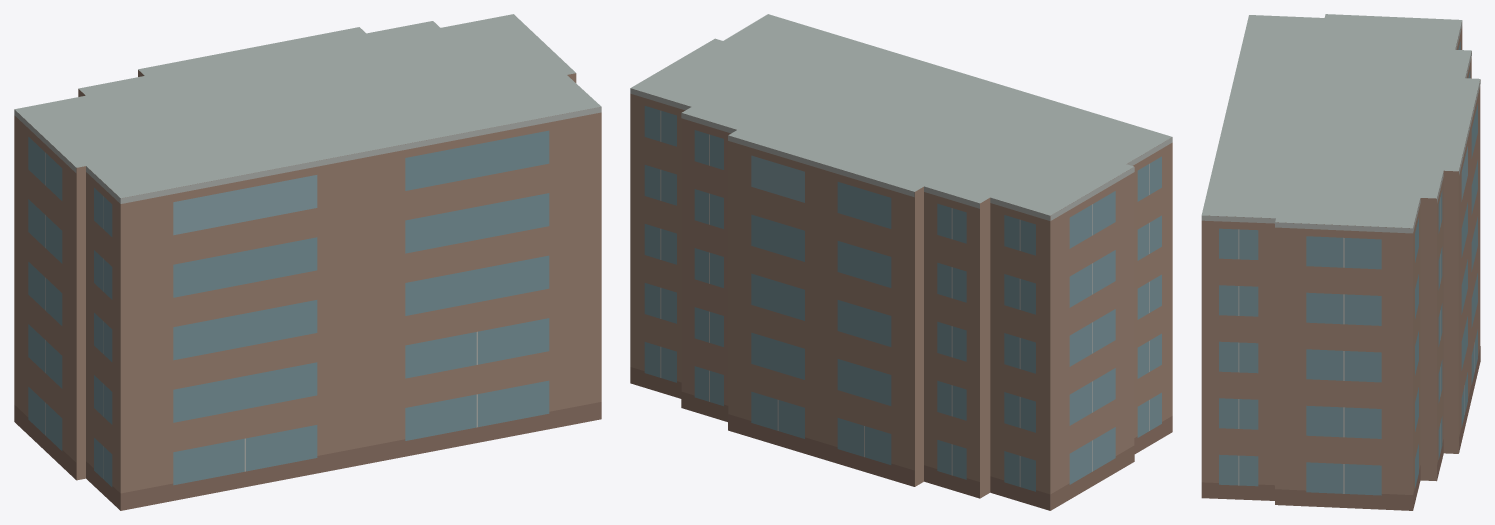
File: survey-upis-33010313.glb
3 renders of one model, left to right at view 1: azimuth 30°, elevation 25°; view 2: azimuth 150°, elevation 25°; view 3: azimuth 270°, elevation 25°, orthographic. The views are drawn at different scales.
Parts seen in each view (by area): view 1: survey-upis-33010313.tmp; view 2: survey-upis-33010313.tmp; view 3: survey-upis-33010313.tmp.
Part boxes in pixels (box(x1,y1,x2,y2)): survey-upis-33010313.tmp: box(14, 14, 601, 510); survey-upis-33010313.tmp: box(630, 14, 1172, 510); survey-upis-33010313.tmp: box(1201, 14, 1480, 510).
Bounding box in the file's own units: 21.47 × 13.2 × 11.82.
